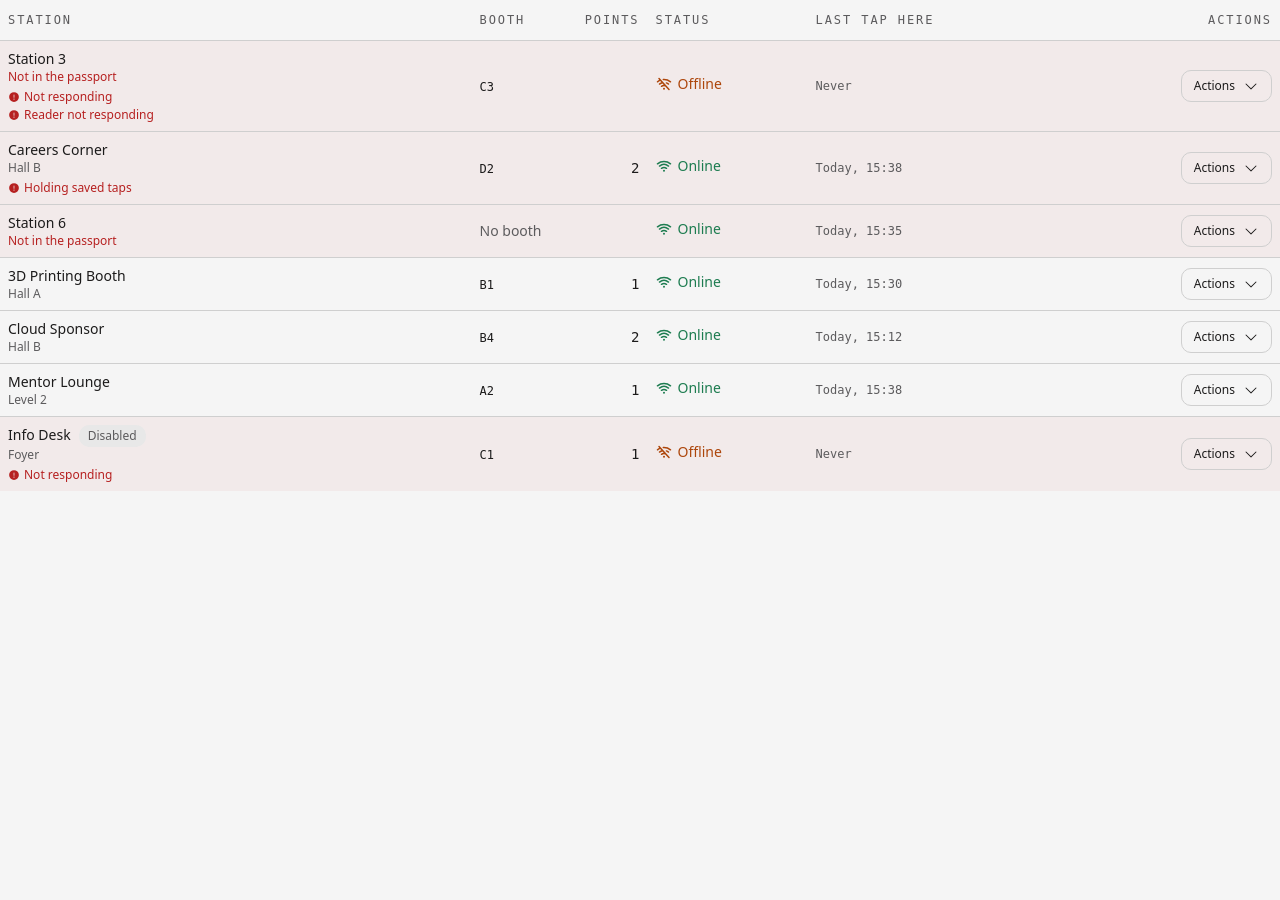
Test case: replacing a station's key › asks first, and sends nothing until the organizer confirms
Step 1. Click the button "Actions" in the row of "3D Printing Booth" → (1226, 284), box 1181,268 -> 1272,300
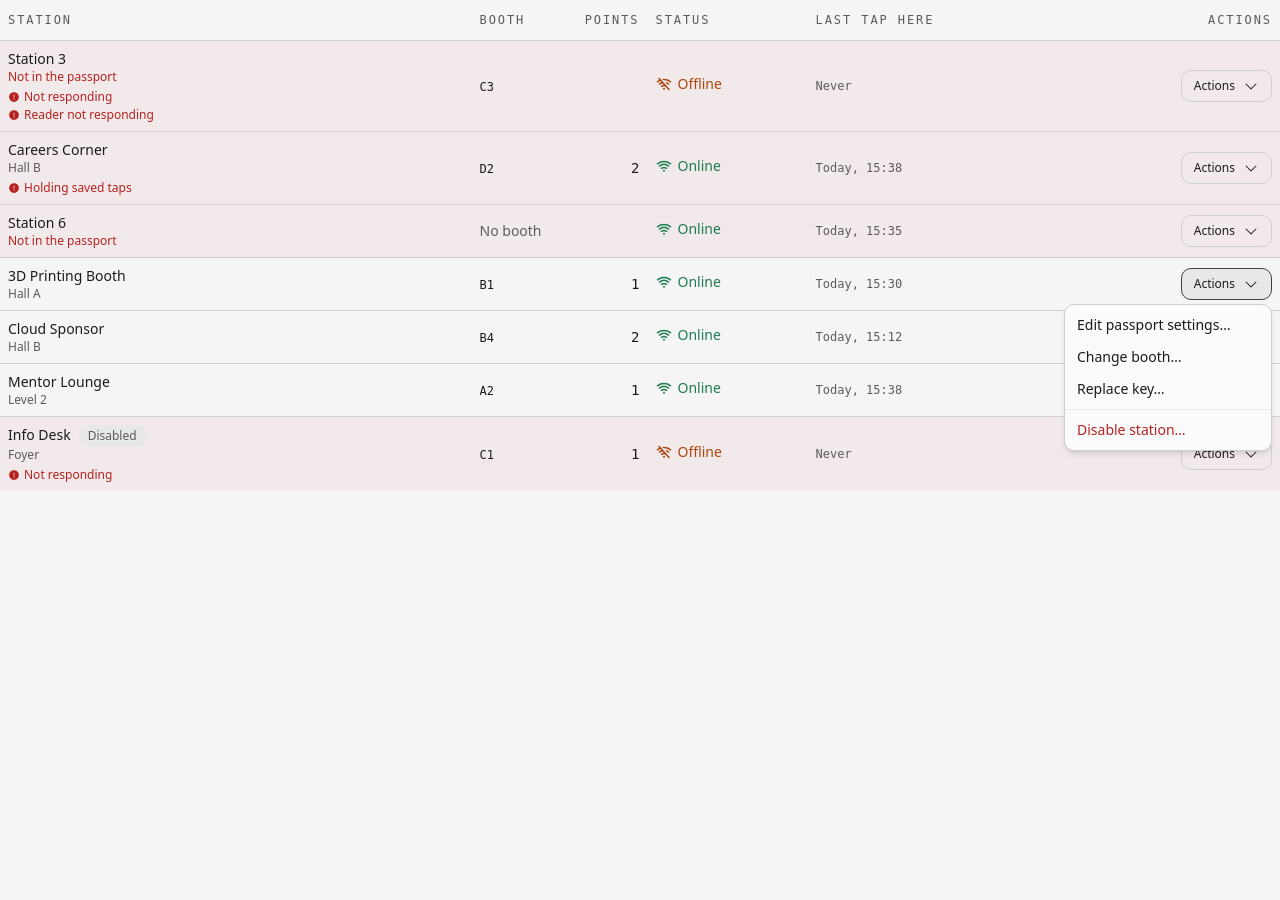
expect the menu is shown: met, box 1064,304 -> 1272,451
Step 2. Click the menu item "Replace key…" → (1121, 388), box 1077,379 -> 1165,398
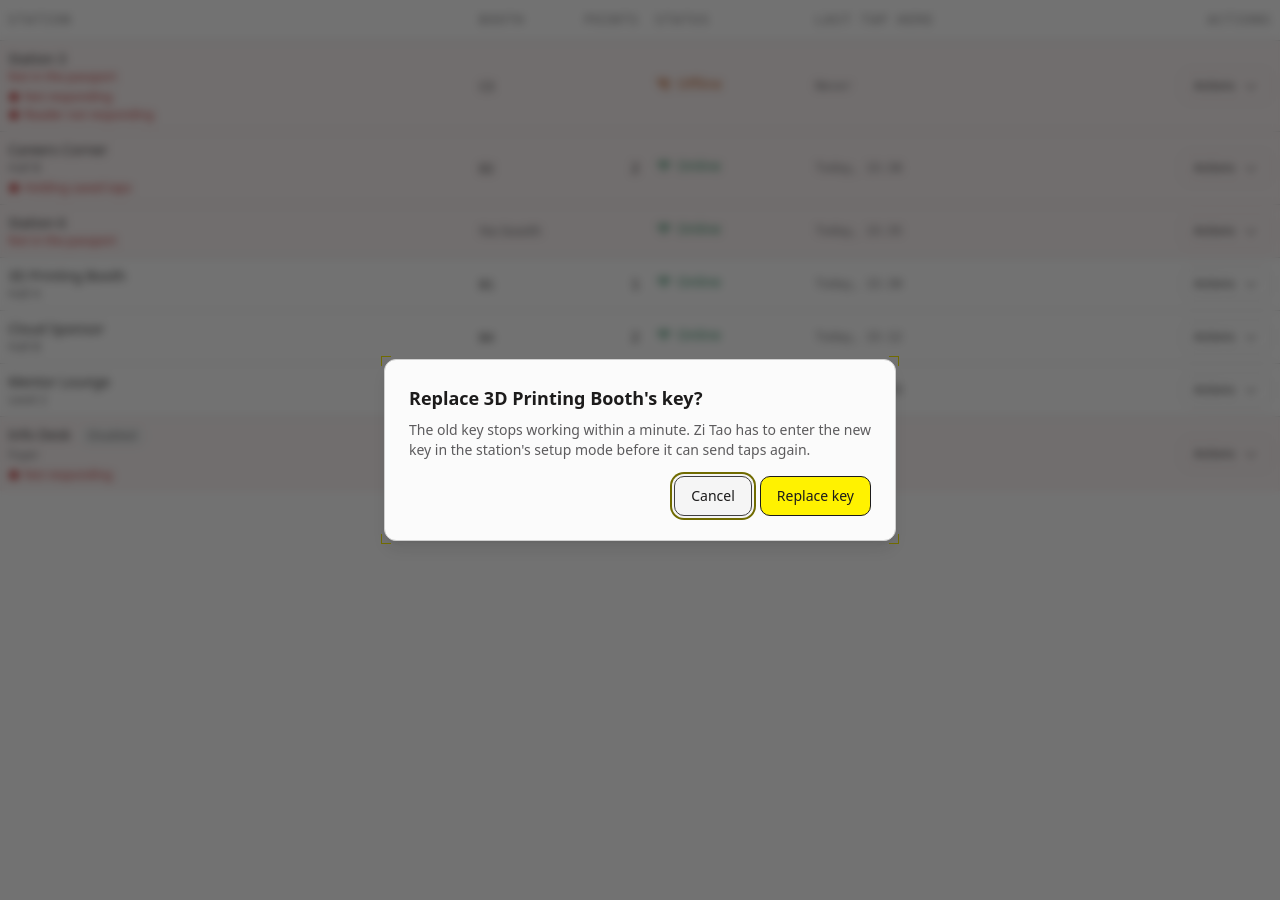
expect the dialog shows "The old key stops working within a minute. Zi Tao has to enter the new key in the station's setup mode before it can send taps again.": met, box 409,420 -> 871,459
